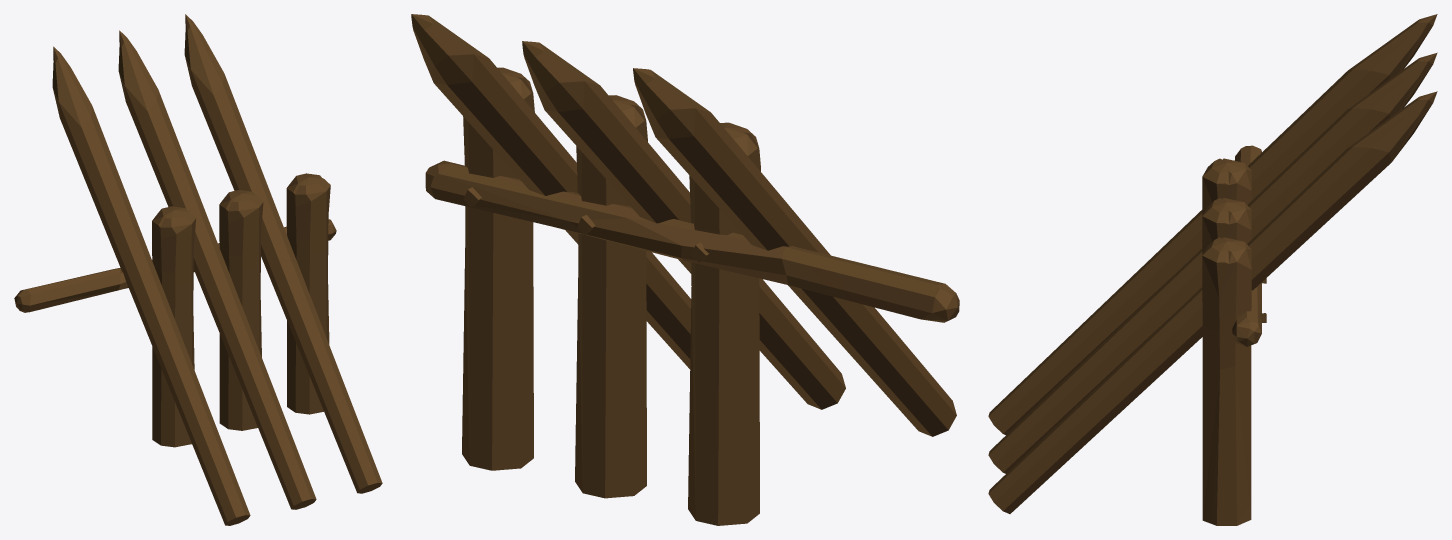
The model's file is fortification.fbx.
3 views of the same model, side by side, from view 1: azimuth 30°, elevation 25°; view 2: azimuth 150°, elevation 25°; view 3: azimuth 270°, elevation 25° (orthographic). The views are drawn at different scales.
Visible parts, largest first — view 1: fortification; view 2: fortification; view 3: fortification.
Part boxes in pixels (x1,y1,x2,y2): fortification: (14, 14, 382, 525); fortification: (411, 14, 959, 525); fortification: (988, 14, 1437, 525).
Size of the model in its own units: 158 by 166 by 162.
